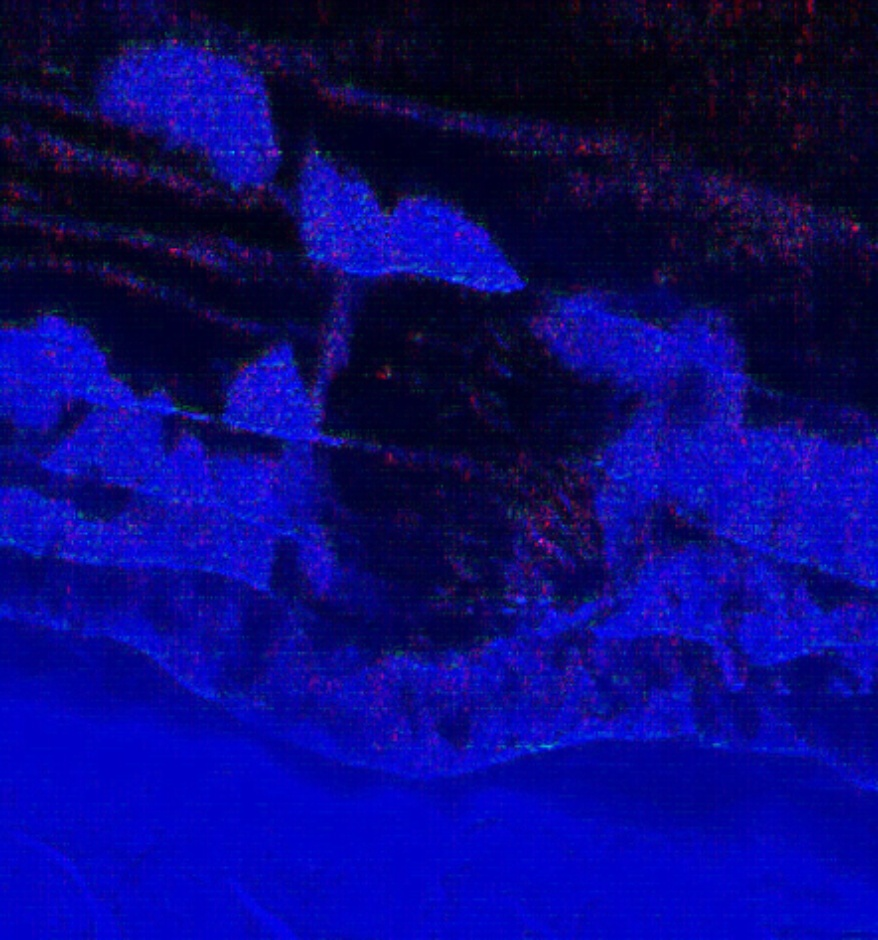rip_current: (265, 193, 623, 659)
